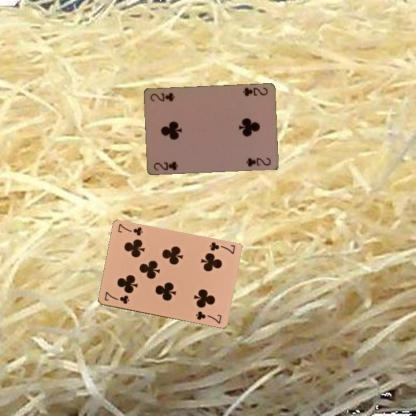2c: (240, 85, 269, 98), (150, 159, 180, 171)
7c: (206, 240, 236, 256), (102, 289, 130, 305)
